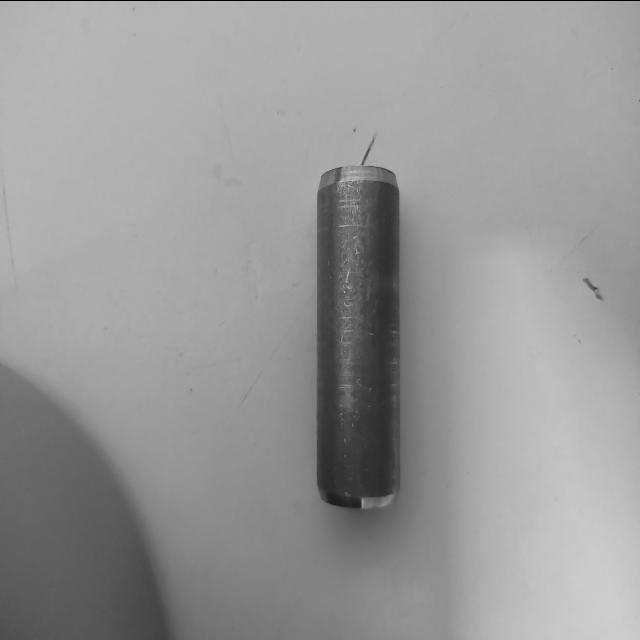Broken: (315, 165, 401, 508)
